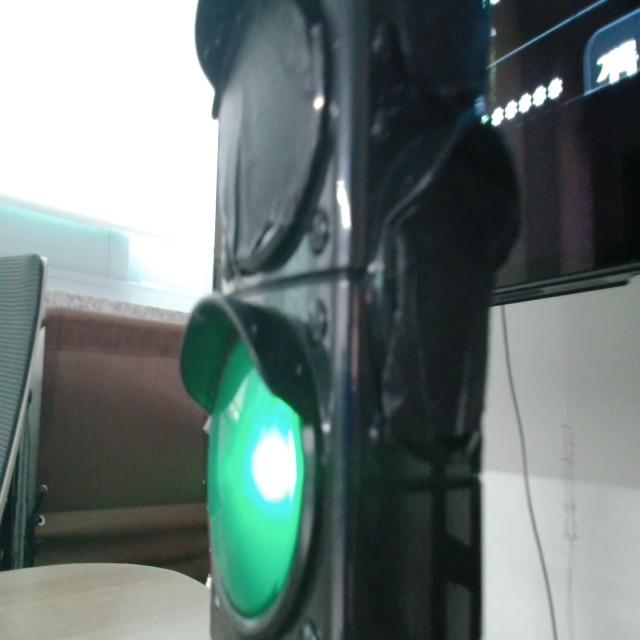green_light: (209, 344, 304, 618)
